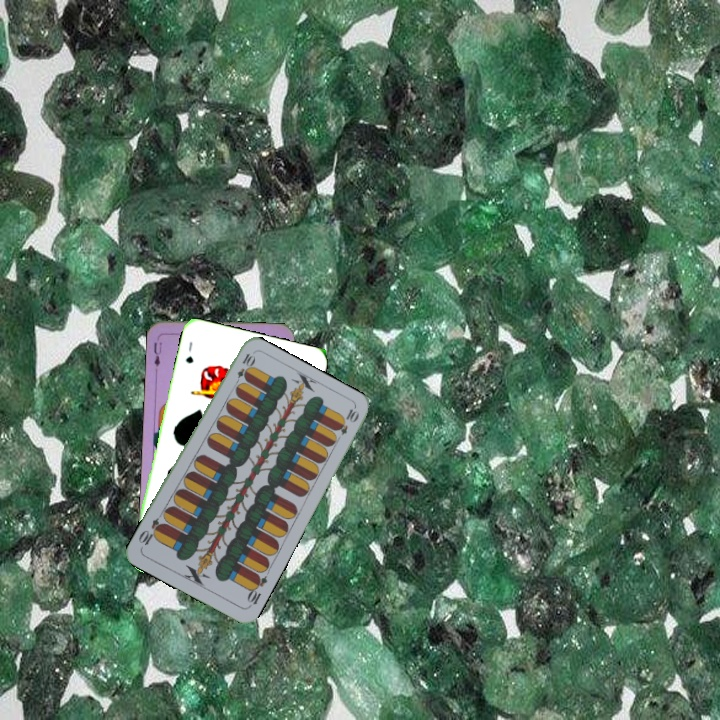E10: (243, 570, 270, 610), (231, 349, 257, 388)
EU: (150, 333, 165, 373)
GU: (181, 338, 196, 366)
